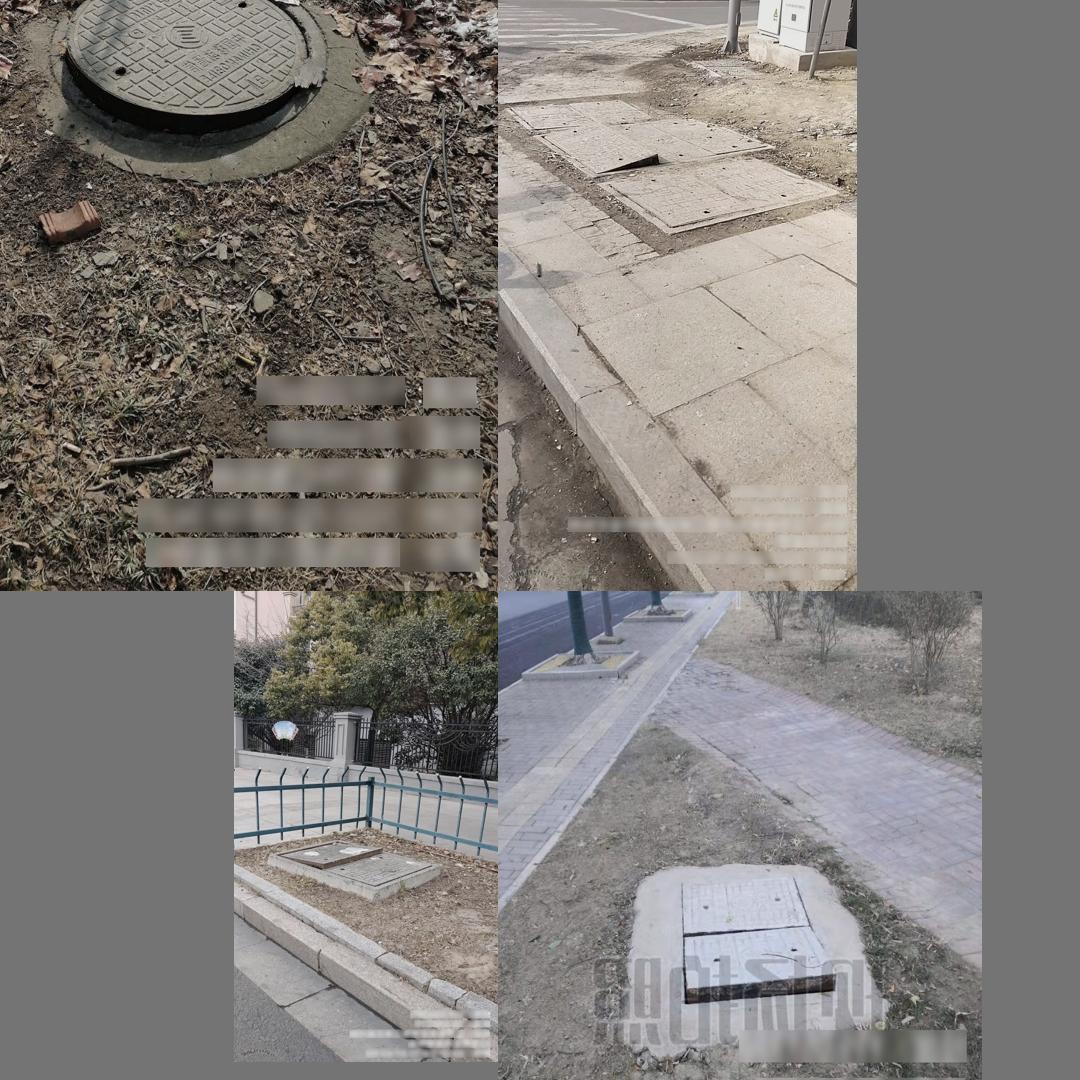good: (597, 156, 842, 238)
uncovered: (52, 0, 332, 130), (675, 869, 837, 1014), (533, 114, 777, 179), (267, 840, 442, 899)
